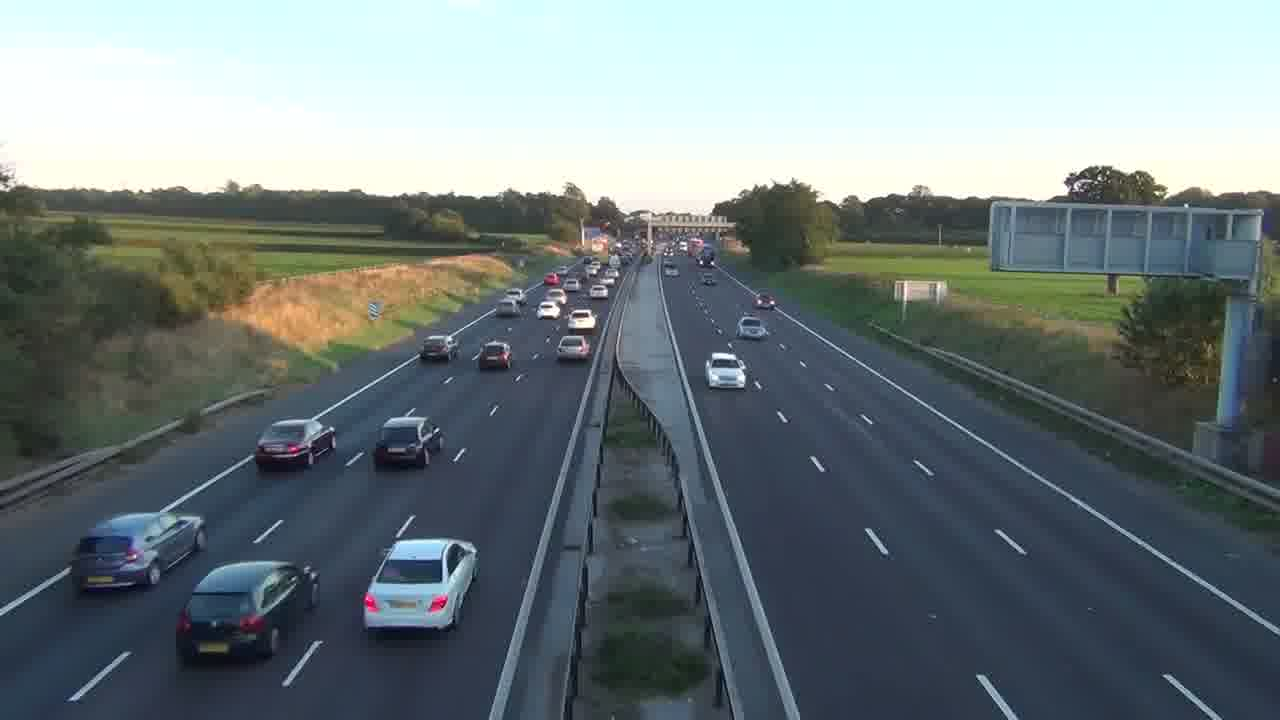car: (175, 559, 321, 666), (69, 510, 207, 595), (361, 537, 480, 634), (255, 417, 337, 470), (373, 412, 443, 468), (705, 352, 748, 390), (477, 339, 512, 371), (557, 335, 591, 362), (418, 334, 451, 361), (736, 315, 769, 341)
